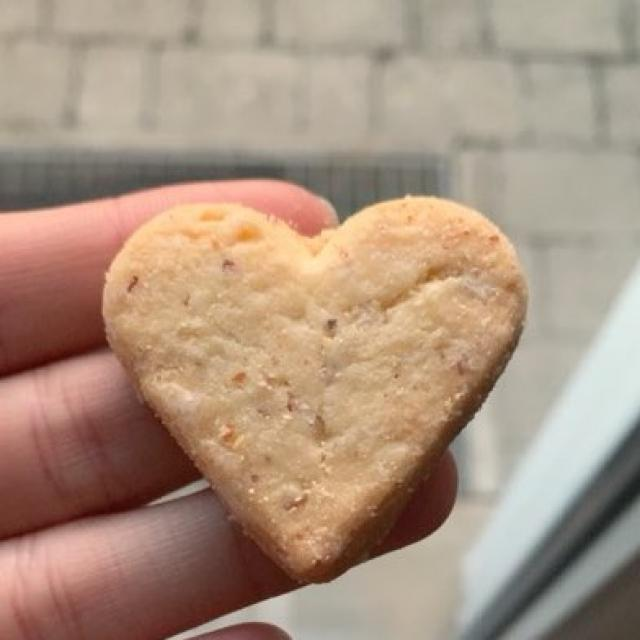biscuits: (100, 199, 522, 574)
